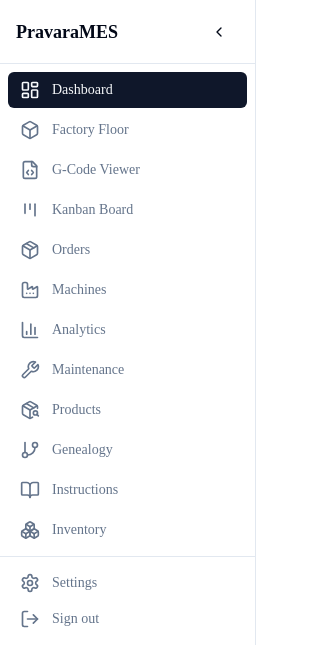
Scenario: Sidebar › collapses sidebar when collapse button is clicked
Click the button named "Collapse sidebar".
click(219, 32)  # box [199,12,239,52]
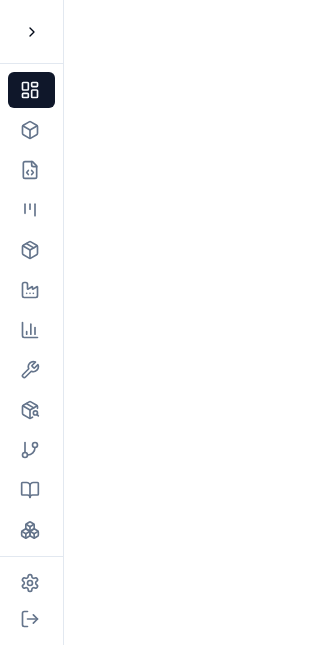
Expected: the text "PravaraMES" is gone
Expected: the button named "Expand sidebar" is shown, [16,12,47,52]
